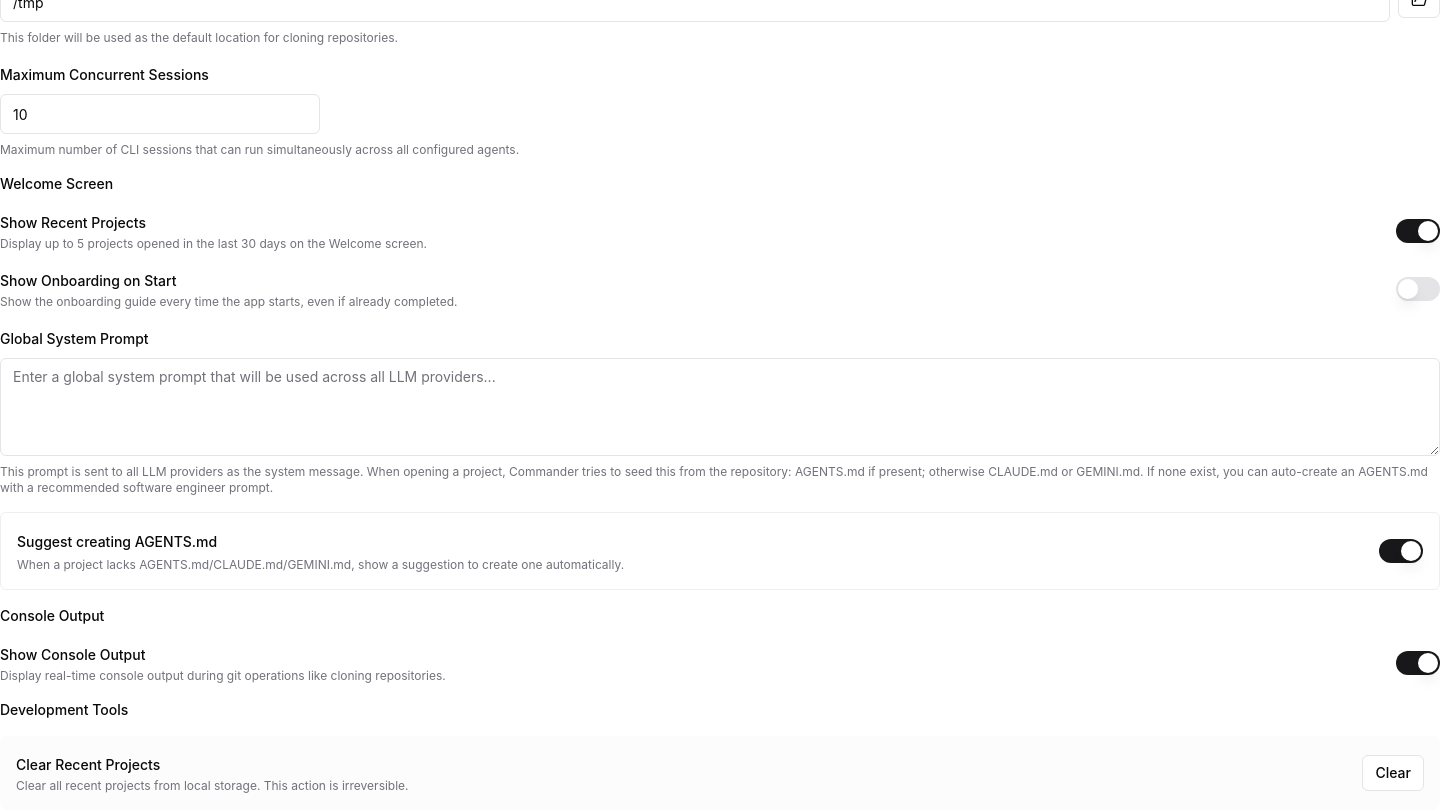
GeneralSettings clear recent projects confirmation › confirms and shows success toast after clearing
The width and height of the screenshot is (1440, 810).
(page scrolled)
Click the button "Clear" at (1393, 773), box [1362,755,1424,791]
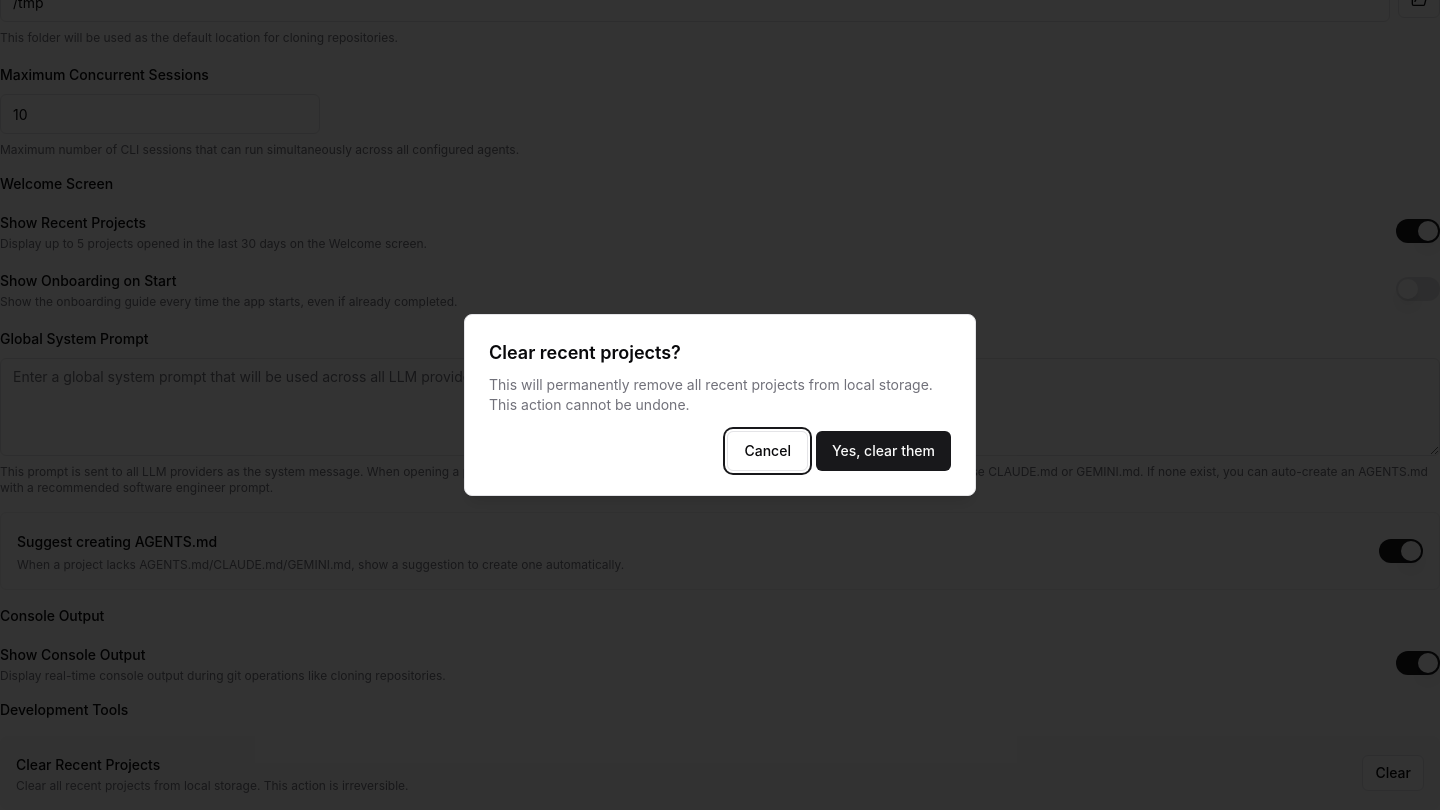
Expected: the text "permanently remove all recent projects" is shown, [489,376,933,413]
Click the button "Yes, clear them" at (884, 451), box [816,431,951,471]
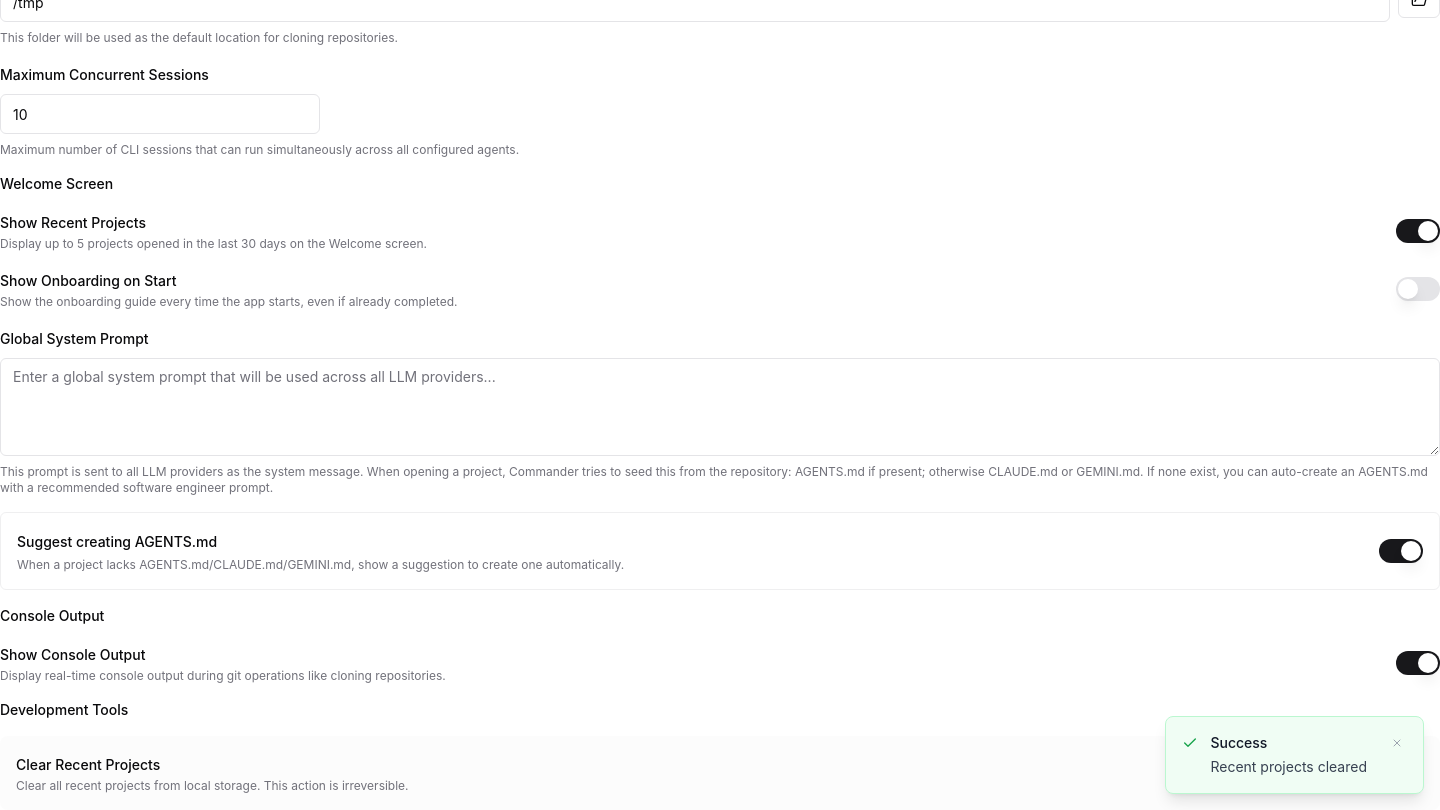
Expected: the text "Recent projects cleared" is shown, [1210,757,1367,777]
